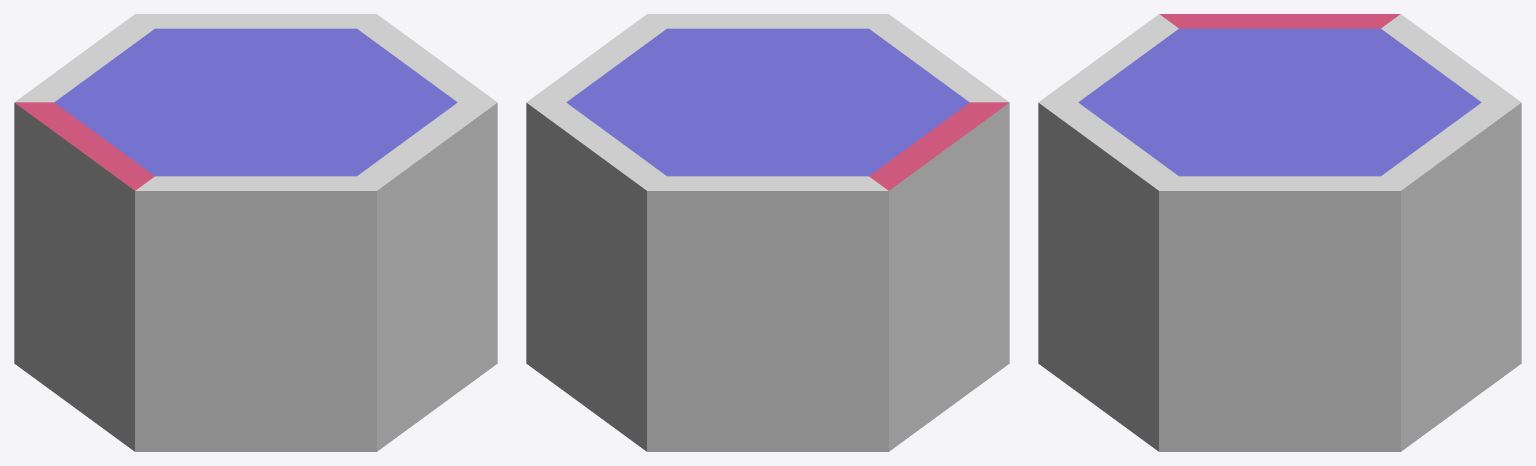
Rendered from hexBase.fbx.
3 views of the same model, side by side, from view 1: azimuth 30°, elevation 25°; view 2: azimuth 150°, elevation 25°; view 3: azimuth 270°, elevation 25° (orthographic).
Visible parts, largest first — view 1: Cylinder.003; view 2: Cylinder.003; view 3: Cylinder.003.
Part boxes in pixels (x1,y1,x2,y2): Cylinder.003: (14,14,497,451); Cylinder.003: (526,14,1009,451); Cylinder.003: (1038,14,1521,451).
Size of the model in its own units: 1.73 by 1.19 by 2.
